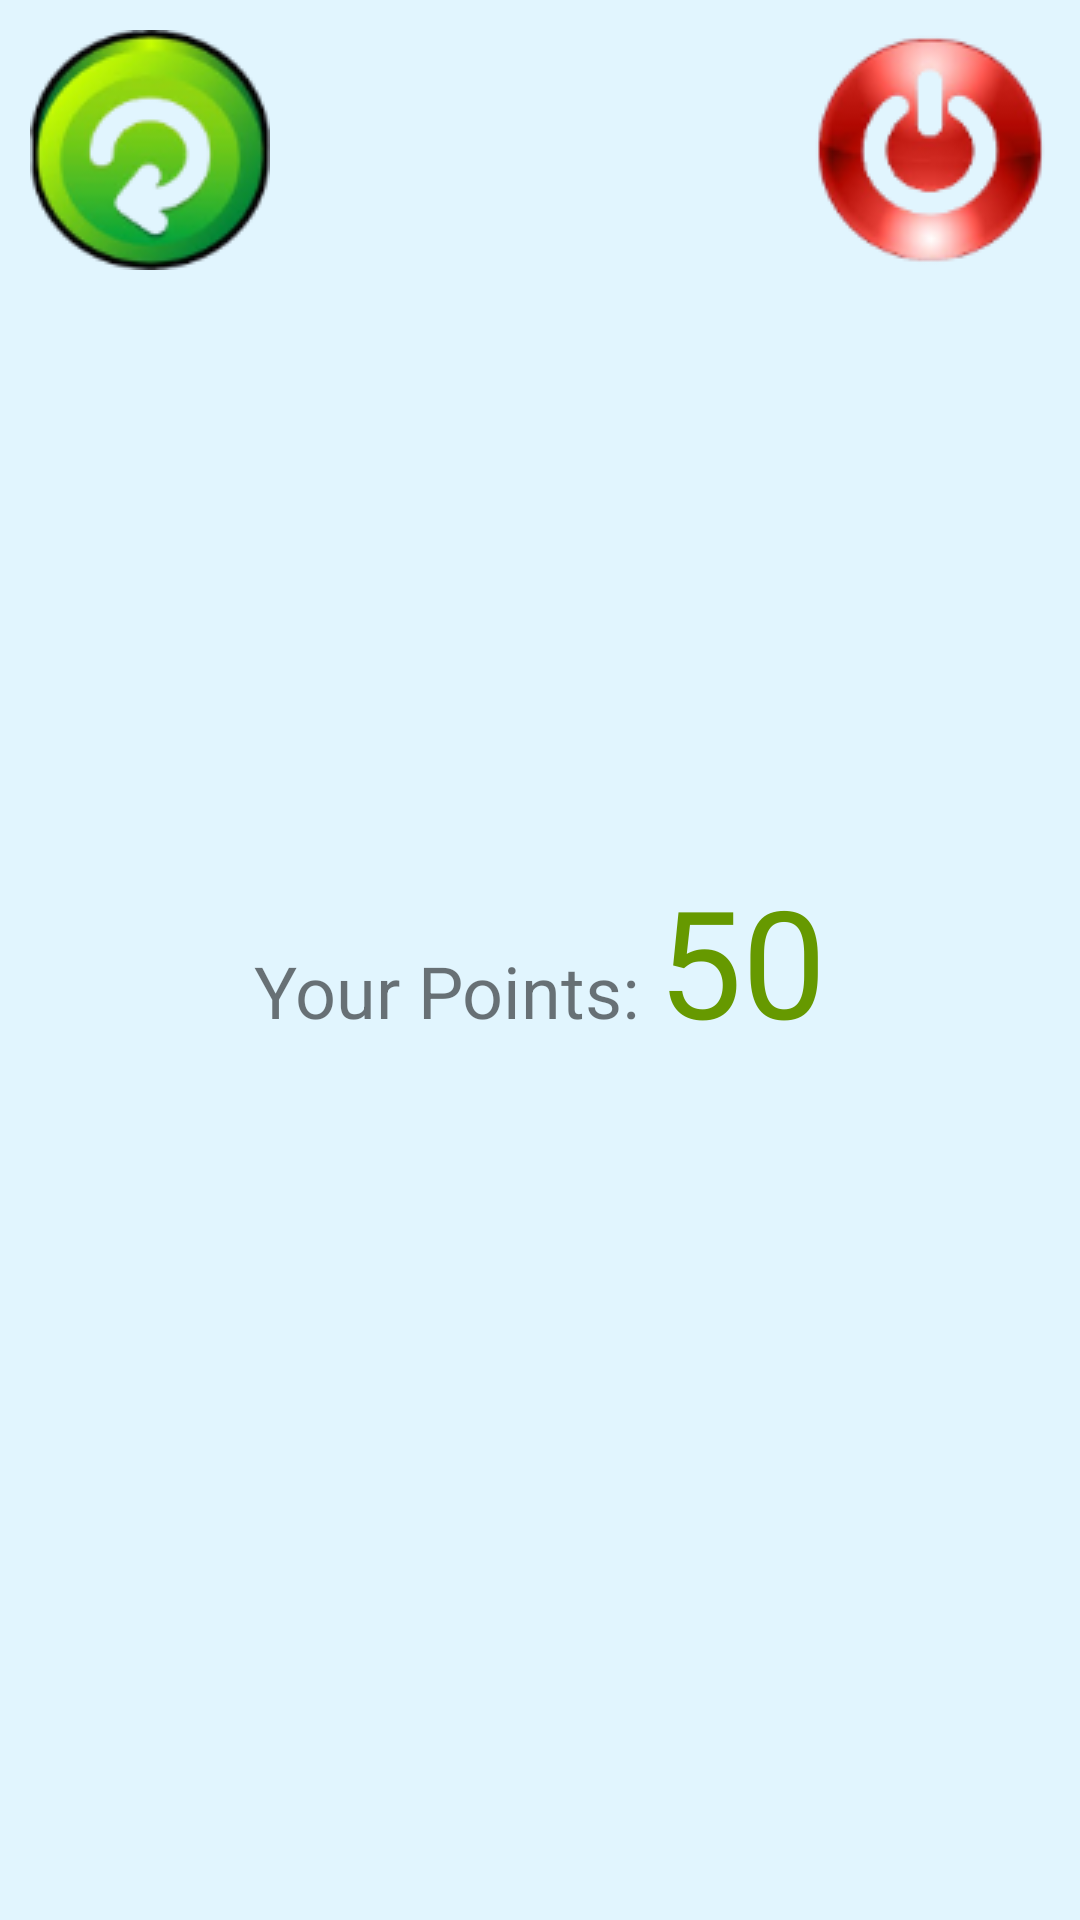

Where to tap for icons on this 1080px x 1920px app screen, as point (x, y):
exit: point (930, 149)
res: point (150, 150)
